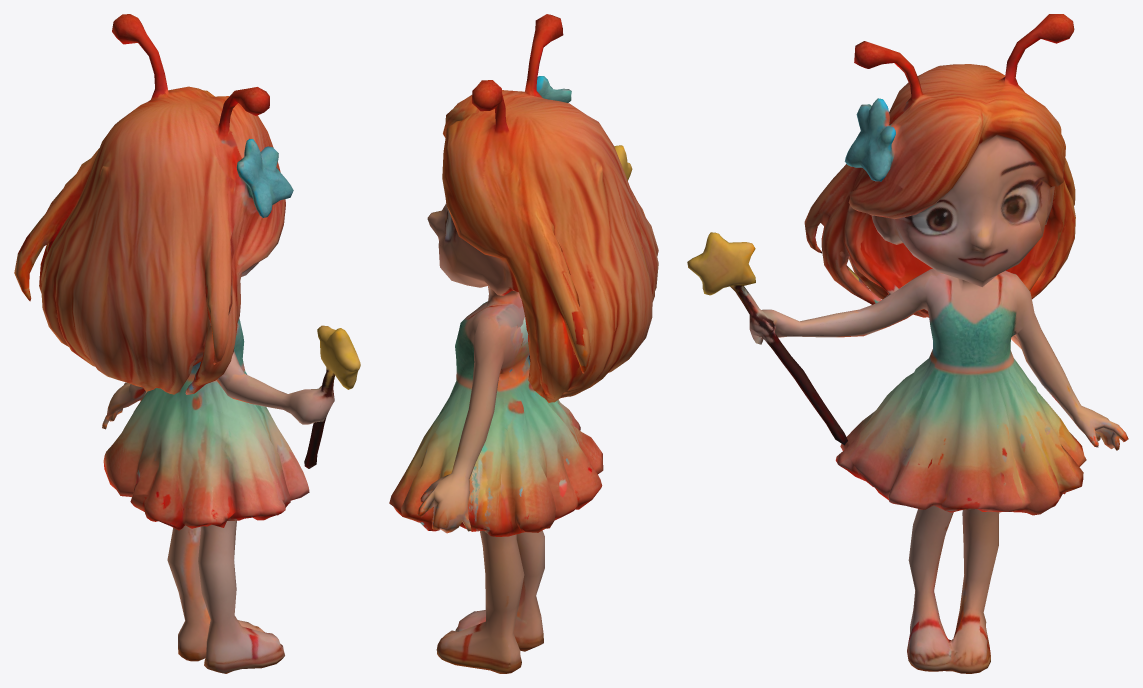
File: girl_f.fbx
3 renders of one model, left to right at view 1: azimuth 30°, elevation 25°; view 2: azimuth 150°, elevation 25°; view 3: azimuth 270°, elevation 25°, orthographic.
Parts seen in each view (by area): view 1: RETOPO; view 2: RETOPO; view 3: RETOPO.
Boxes of the visible parts, x1=… form: RETOPO: x1=14, y1=14, x2=360, y2=673; RETOPO: x1=389, y1=14, x2=658, y2=673; RETOPO: x1=687, y1=14, x2=1128, y2=673.
Size of the model in its own units: 33.7 by 94.62 by 61.29.
Materials: 1 (1 with a texture image).
